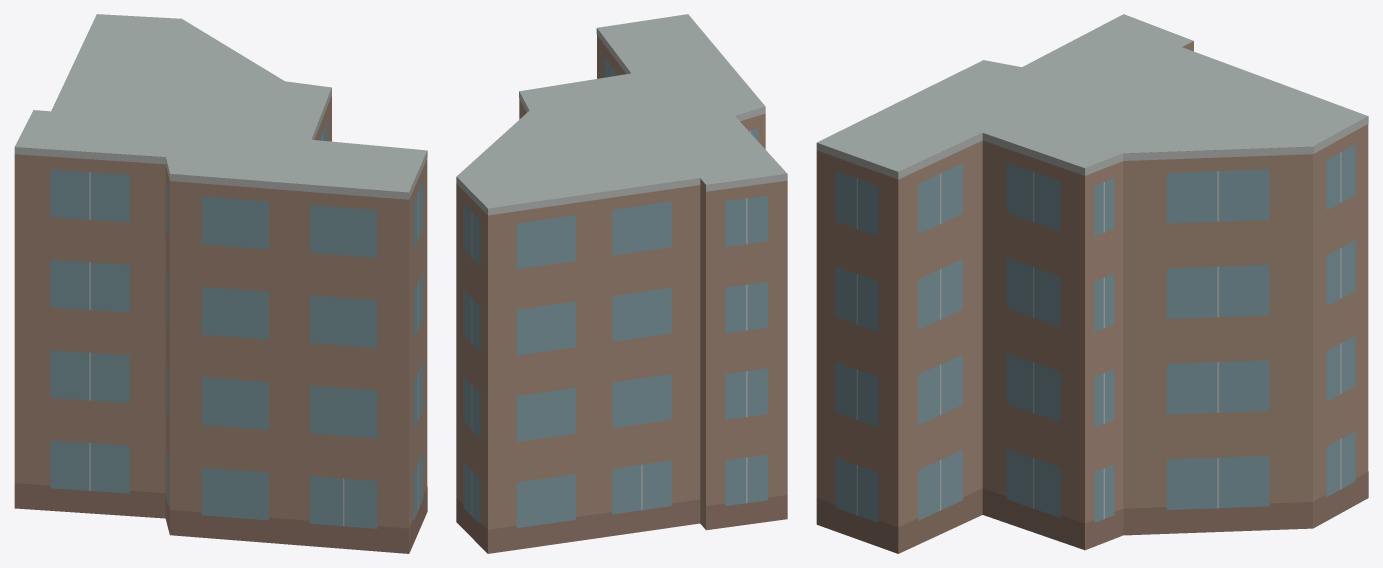
File: survey-upis-33038219.glb
3 renders of one model, left to right at view 1: azimuth 30°, elevation 25°; view 2: azimuth 150°, elevation 25°; view 3: azimuth 270°, elevation 25°, orthographic. The views are drawn at different scales.
Visible parts, largest first — view 1: survey-upis-33038219.tmp; view 2: survey-upis-33038219.tmp; view 3: survey-upis-33038219.tmp.
Part boxes in pixels (box(x1,y1,x2,y2)): survey-upis-33038219.tmp: box(14, 14, 427, 553); survey-upis-33038219.tmp: box(456, 14, 787, 553); survey-upis-33038219.tmp: box(816, 14, 1368, 553).
Bounding box in the file's own units: 10.83 × 12.2 × 15.98.
